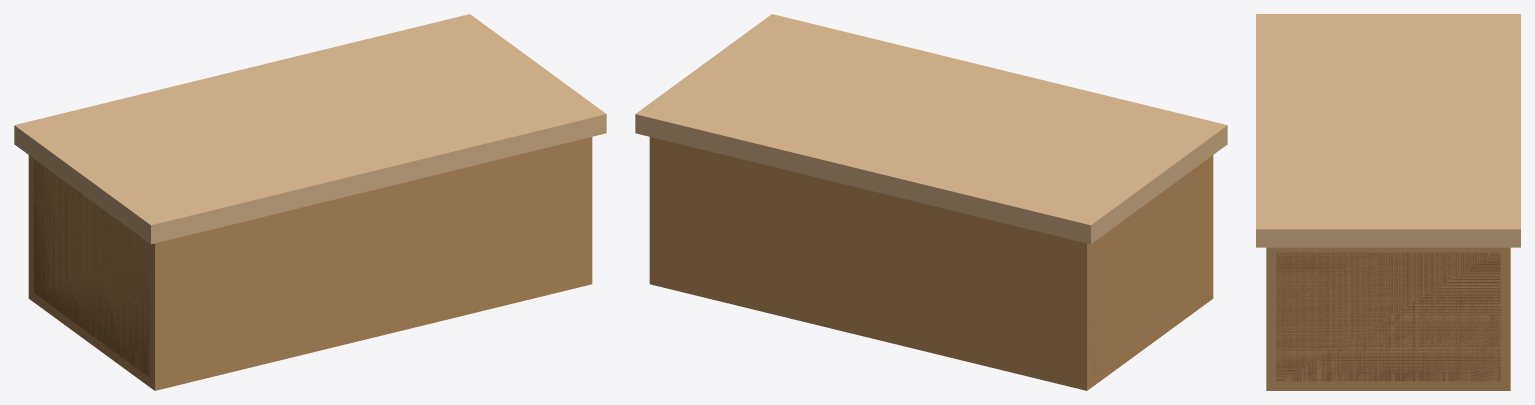
File: kitchen_counter.glb
3 renders of one model, left to right at view 1: azimuth 30°, elevation 25°; view 2: azimuth 150°, elevation 25°; view 3: azimuth 270°, elevation 25°, orthographic. The views are drawn at different scales.
Parts seen in each view (by area): view 1: kitchen_counter; view 2: kitchen_counter; view 3: kitchen_counter.
Part boxes in pixels (x1,y1,x2,y2): kitchen_counter: (14, 14, 606, 390); kitchen_counter: (635, 14, 1227, 390); kitchen_counter: (1256, 14, 1520, 390).
Bounding box in the file's own units: 50 × 18 × 26.
